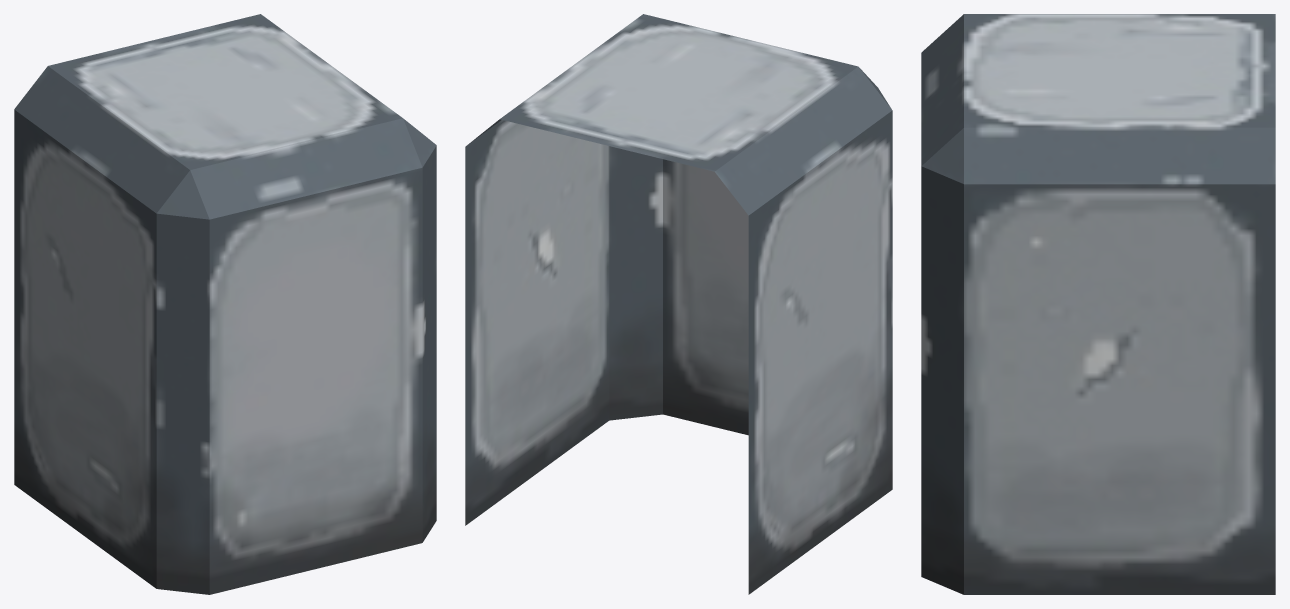
File: stone.glb
The picture shows the model from 3 angles, left to right: view 1: azimuth 30°, elevation 25°; view 2: azimuth 150°, elevation 25°; view 3: azimuth 270°, elevation 25°; orthographic projection. The views are drawn at different scales.
Visible parts, largest first — view 1: Cube.001; view 2: Cube.001; view 3: Cube.001.
Part boxes in pixels (x1=…): Cube.001: x1=14, y1=14, x2=436, y2=594; Cube.001: x1=465, y1=14, x2=892, y2=594; Cube.001: x1=921, y1=14, x2=1275, y2=594.
Bounding box in the file's own units: 1 × 1.4 × 1.
1 material, 1 textured.
